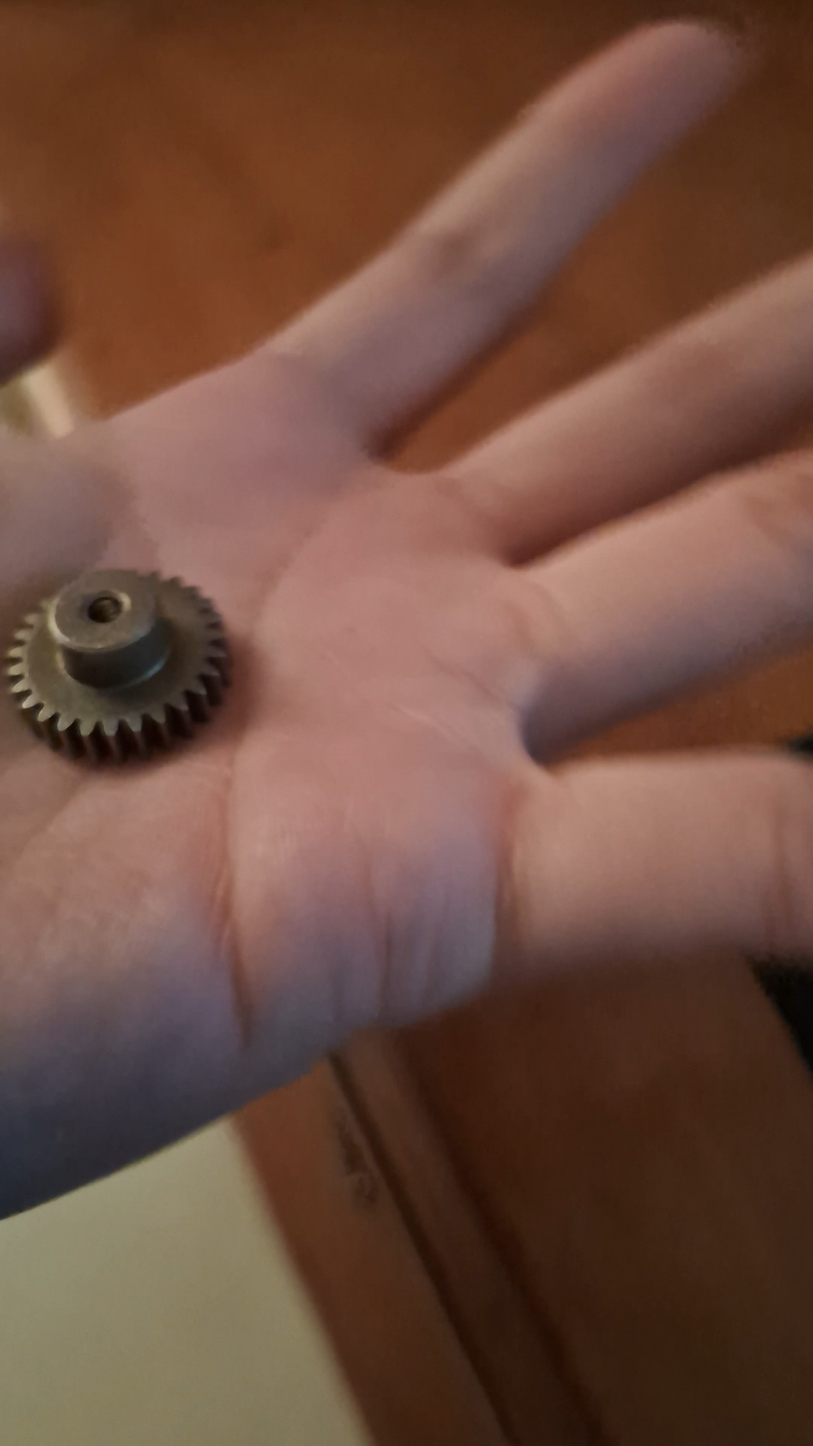spur gear: (6, 570, 228, 761)
